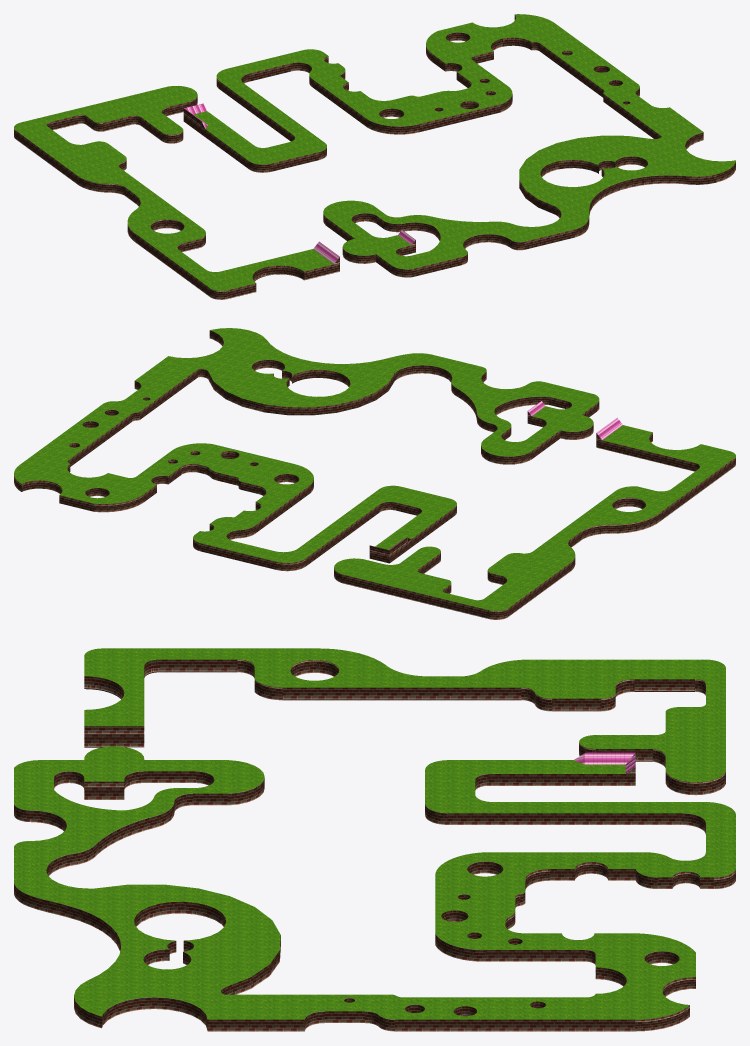
3 renders of one model, top to bottom at view 1: azimuth 30°, elevation 25°; view 2: azimuth 150°, elevation 25°; view 3: azimuth 270°, elevation 25°, orthographic. The views are drawn at different scales.
Parts seen in each view (by area): view 1: Course-COM-skp4C6D-25712-auto2, Course-COM-skp4C6D-25712-RotateBrick1, Course-COM-skp4C6D-25712-Brick, Course-COM-skp4C6D-25712-Brick1, Course-COM-skp4C6D-25712-Material; view 2: Course-COM-skp4C6D-25712-auto2, Course-COM-skp4C6D-25712-RotateBrick1, Course-COM-skp4C6D-25712-Brick, Course-COM-skp4C6D-25712-Brick1; view 3: Course-COM-skp4C6D-25712-auto2, Course-COM-skp4C6D-25712-RotateBrick1, Course-COM-skp4C6D-25712-Brick, Course-COM-skp4C6D-25712-Material.
Boxes of the visible parts, <box> form: Course-COM-skp4C6D-25712-auto2: <box>14,14,735,290</box>; Course-COM-skp4C6D-25712-RotateBrick1: <box>15,15,735,296</box>; Course-COM-skp4C6D-25712-Brick: <box>14,32,703,299</box>; Course-COM-skp4C6D-25712-Brick1: <box>50,51,574,298</box>; Course-COM-skp4C6D-25712-Material: <box>184,103,415,263</box>; Course-COM-skp4C6D-25712-auto2: <box>14,328,735,610</box>; Course-COM-skp4C6D-25712-RotateBrick1: <box>21,369,734,617</box>; Course-COM-skp4C6D-25712-Brick: <box>14,330,735,619</box>; Course-COM-skp4C6D-25712-Brick1: <box>59,397,694,618</box>; Course-COM-skp4C6D-25712-auto2: <box>14,648,735,1019</box>; Course-COM-skp4C6D-25712-RotateBrick1: <box>47,659,714,1031</box>; Course-COM-skp4C6D-25712-Brick: <box>14,659,735,1031</box>; Course-COM-skp4C6D-25712-Material: <box>574,752,635,773</box>.
Size of the model in its own units: 137547 by 3713 by 113040.
Materials: 7 (7 with a texture image).
